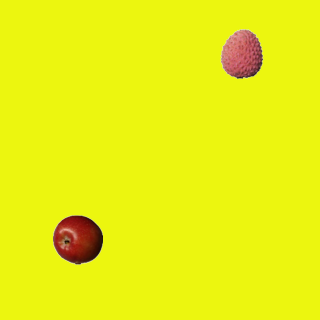Apple Braeburn: (52, 214, 102, 264)
Lychee: (216, 28, 266, 78)
